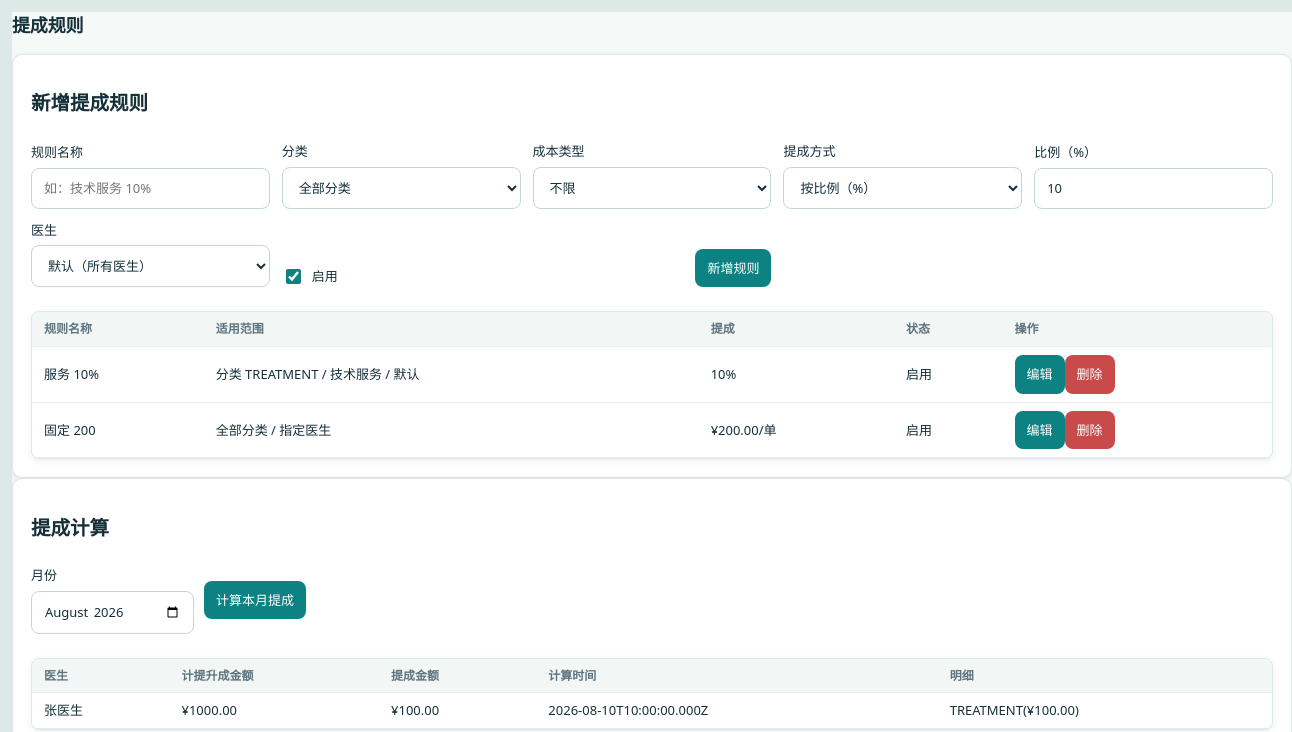
CommissionPage › rejects invalid rates and edits an existing rule
This screenshot has width=1292, height=732.
Expected: the text "服务 10%" is shown, [32,346,204,402]
In the field labelled "规则名称": (150, 188) [31,168,270,208], type "坏规则"
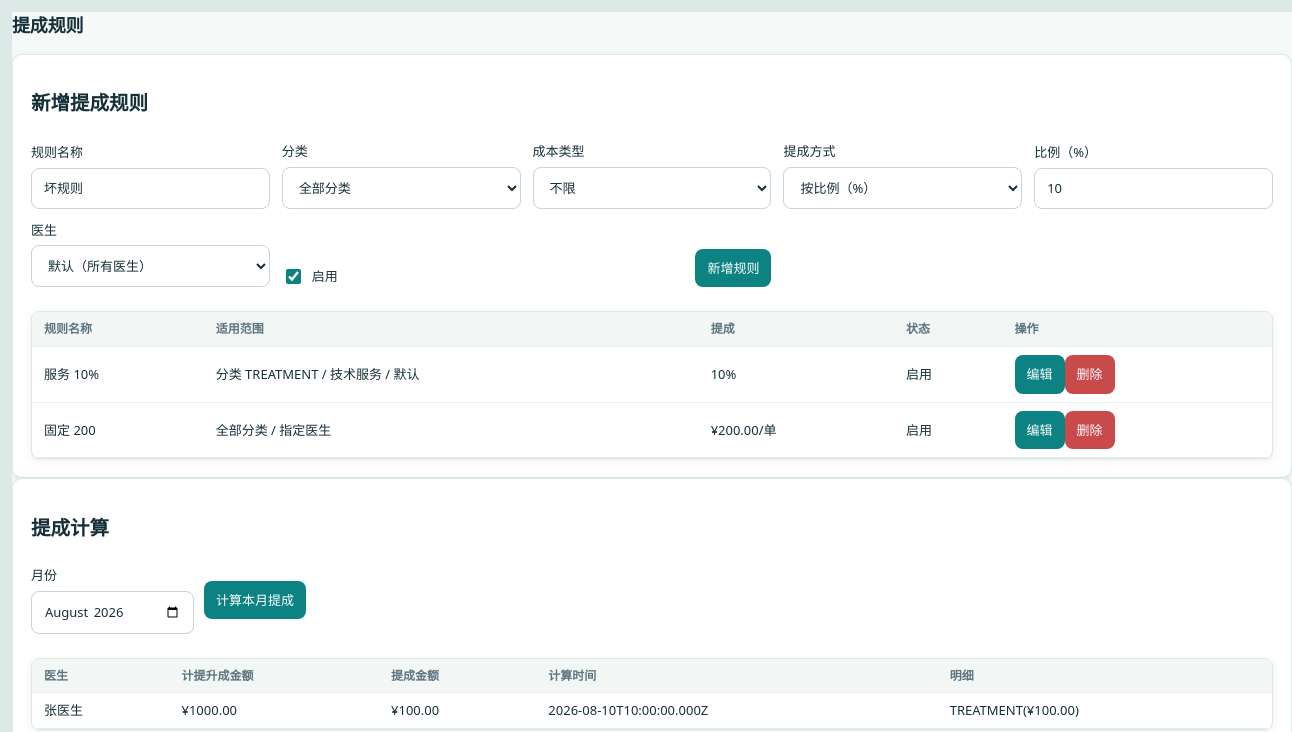
Select "按比例（%）" in the dropdown labelled "提成方式": (903, 188) [783,166,1022,208]
Replace the text in the number field named "提成值" with "101": (1154, 188) [1034,168,1273,208]
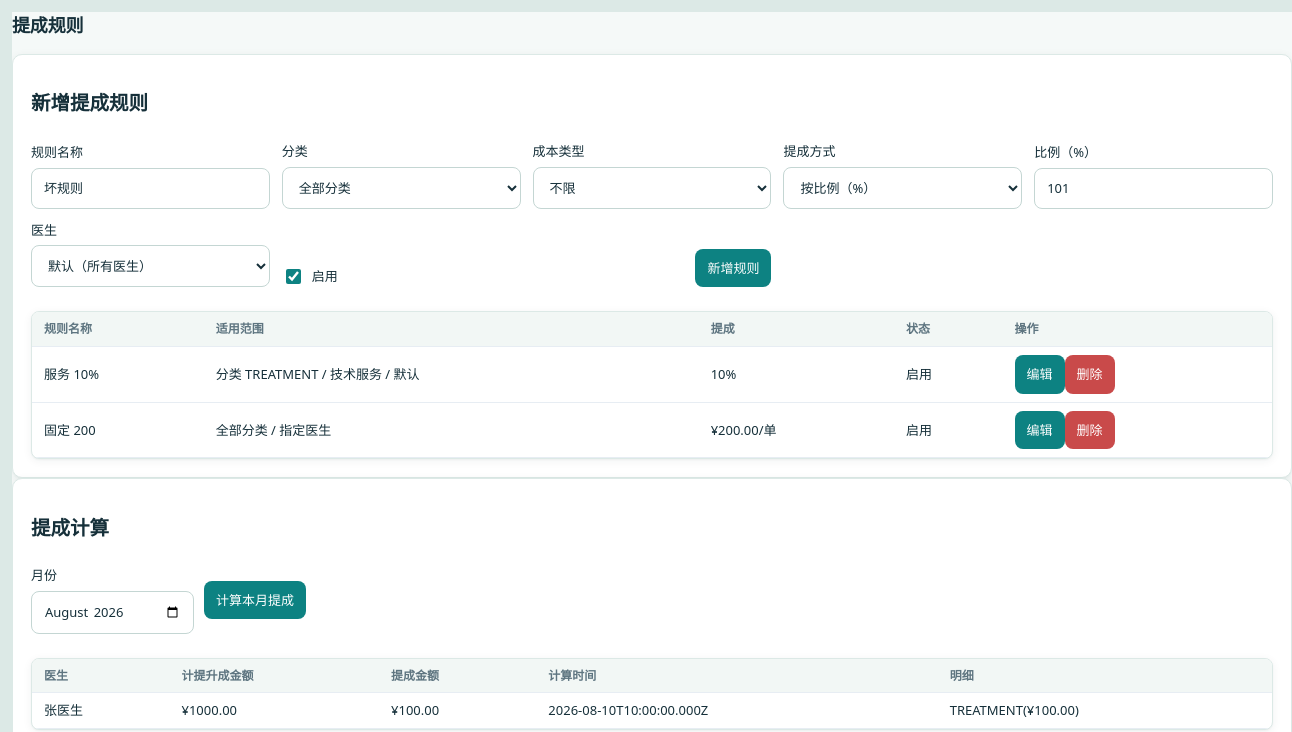
Click the button "新增规则": (733, 268) [695,248,771,287]
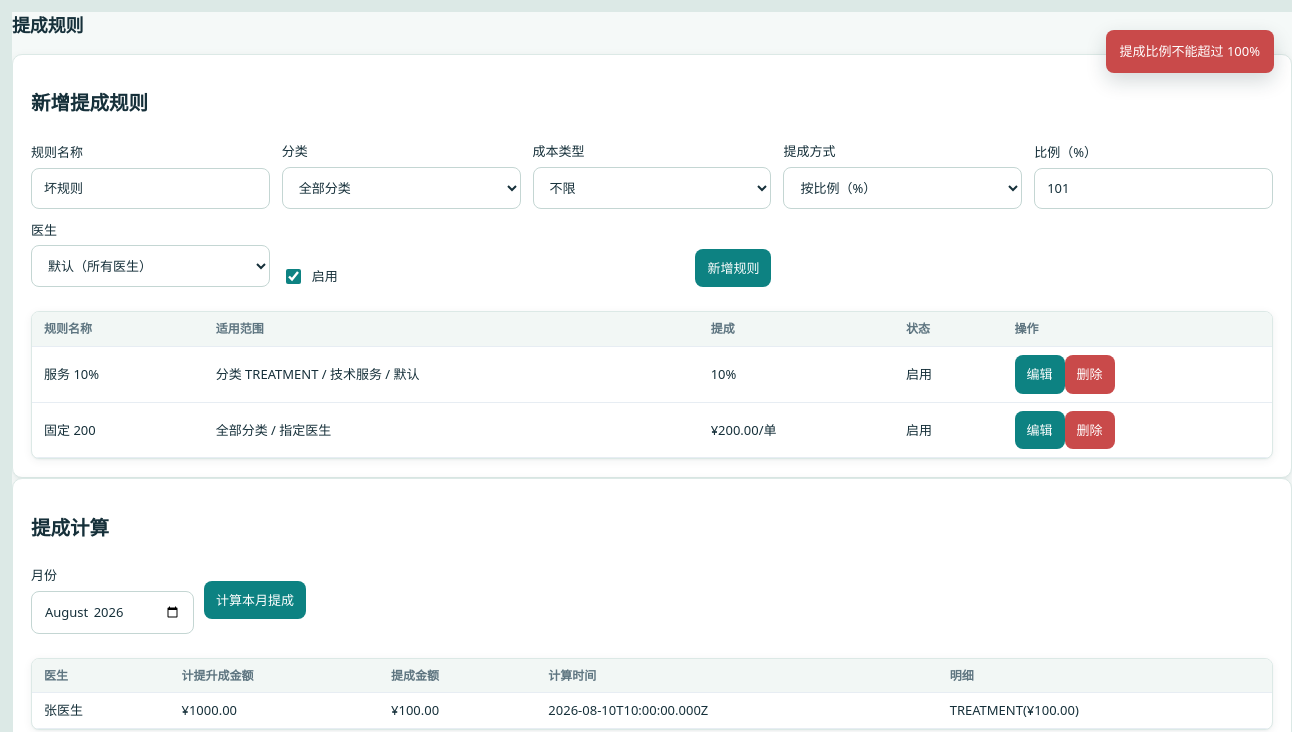
Expected: the text "提成比例不能超过 100%" is shown, [1106,30,1274,73]
Click the button "编辑" in the row of "服务 10%": (1040, 374) [1015,355,1065,394]
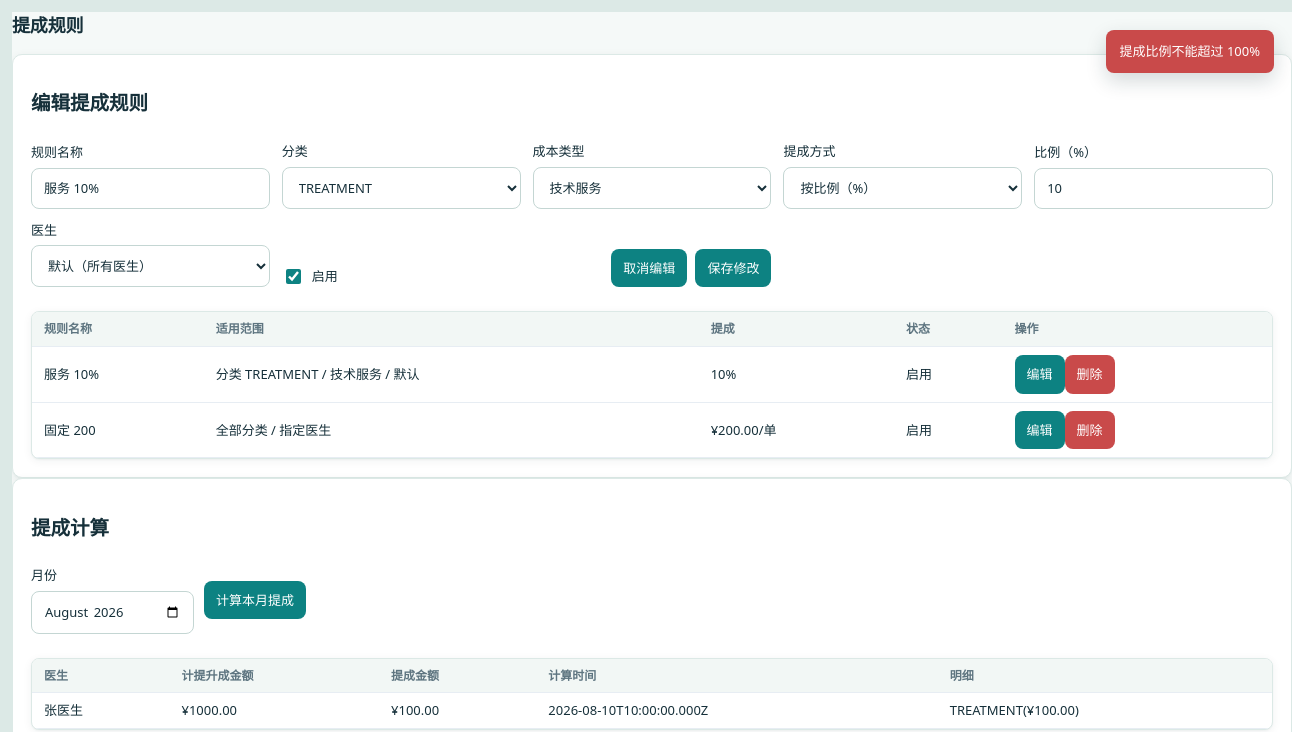
Expected: the field labelled "规则名称" holds "服务 10%"
Replace the text in the field labelled "规则名称" with "服务 12%": (150, 188) [31,168,270,208]
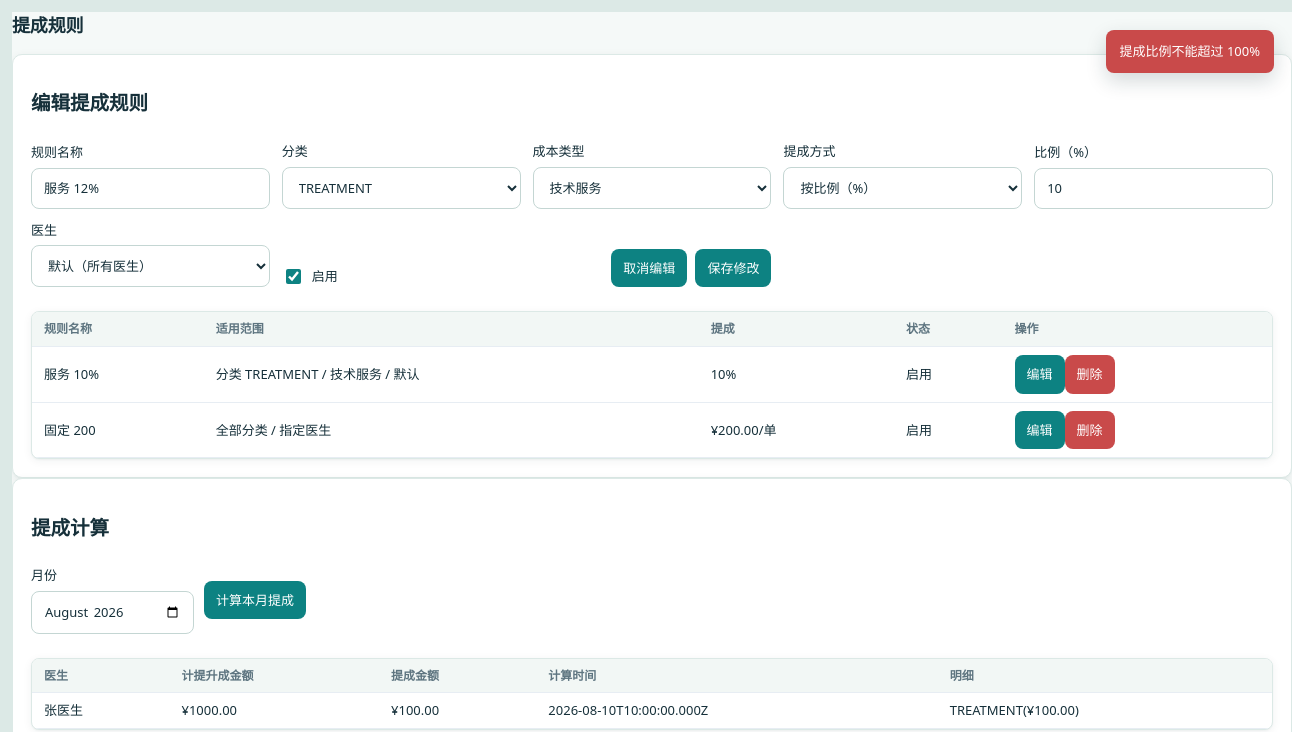
Click the button "保存修改": (733, 268) [695,248,771,287]
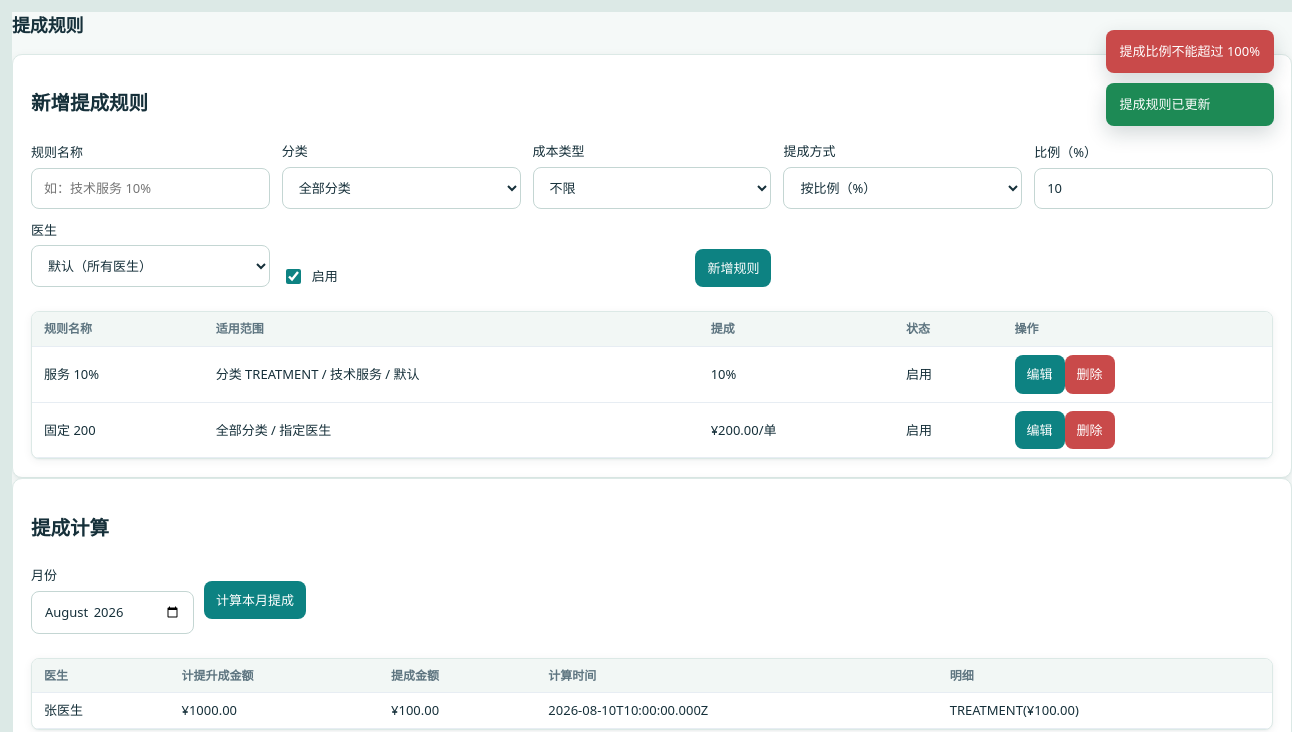
Expected: the text "提成规则已更新" is shown, [1106,83,1274,126]
